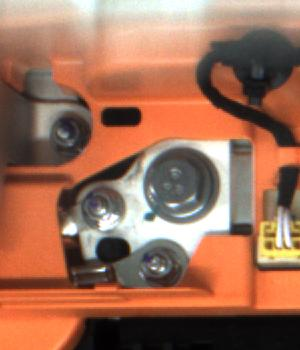nut_b: (138, 141, 229, 231)
screw_s: (137, 244, 180, 282), (45, 112, 81, 153), (83, 187, 118, 223)
